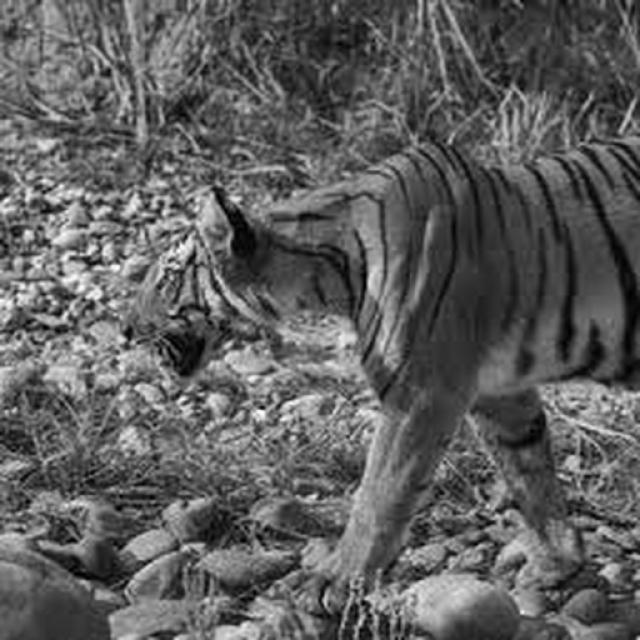Tiger: (119, 124, 639, 620)
